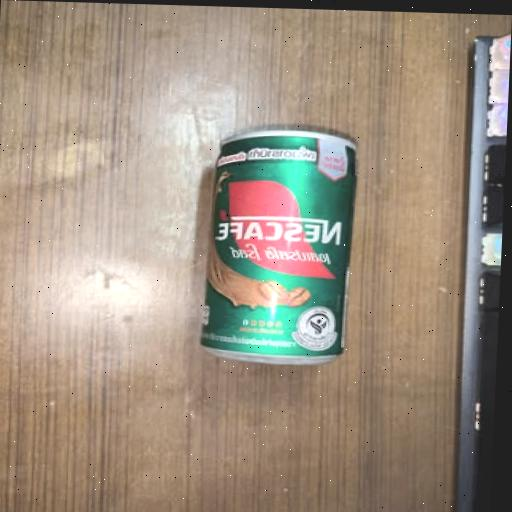canned: (189, 115, 365, 375)
